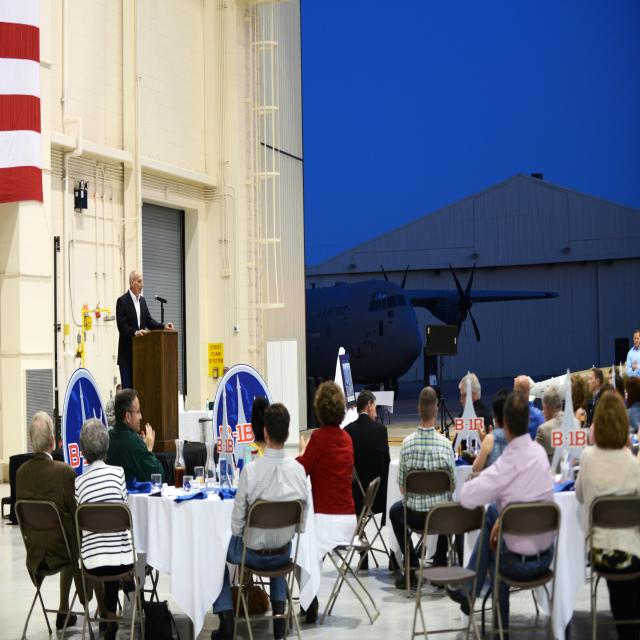MIL_Plane: (0, 263, 237, 399)
